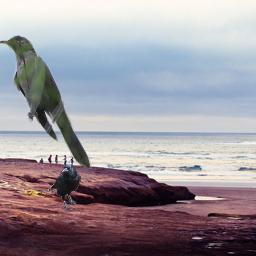Crow: (44, 162, 81, 213)
Cuckoo: (0, 35, 95, 170)
